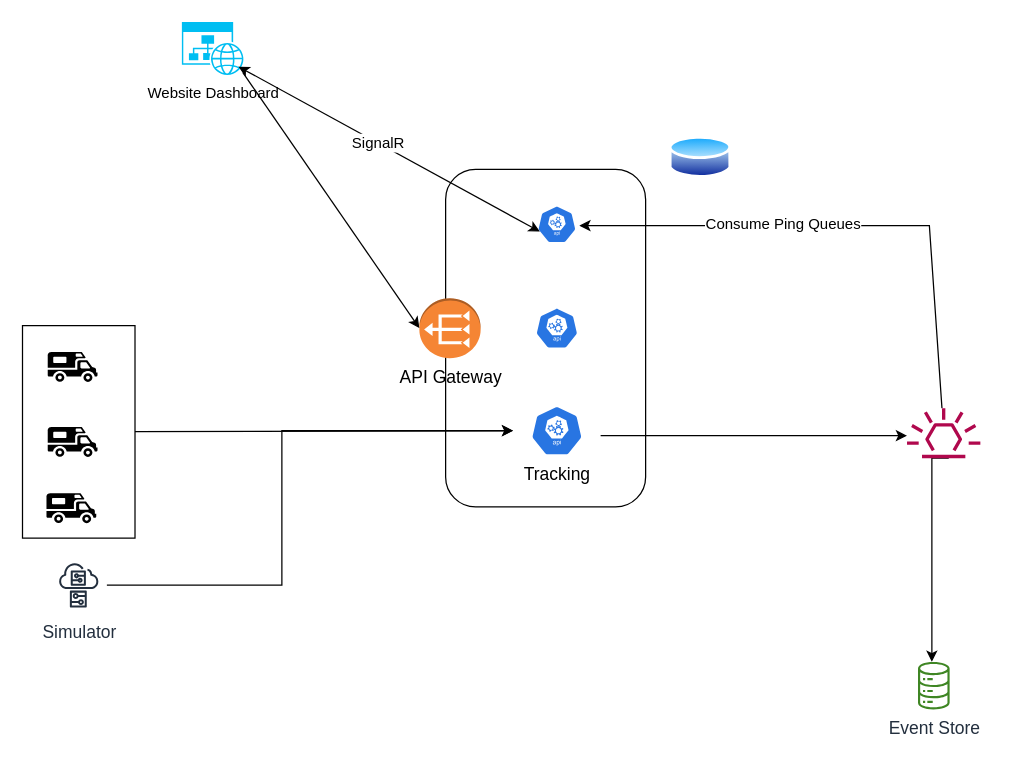
Some shapes in this 1011 by 760 pixel diagram are drawn without their labels. Each missing label, with the box of its shape:
Cust omers: (534, 304, 578, 351)
Service Bus: (906, 408, 980, 458)
Vehicles: (525, 204, 588, 243)
